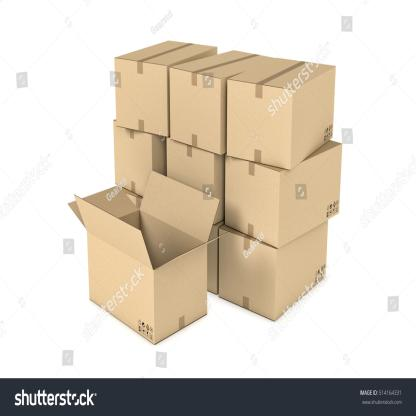box: (87, 236, 156, 347), (226, 79, 294, 170), (225, 154, 281, 250), (219, 229, 276, 323), (169, 67, 221, 155), (167, 135, 216, 227), (114, 56, 168, 137), (114, 124, 154, 198)
